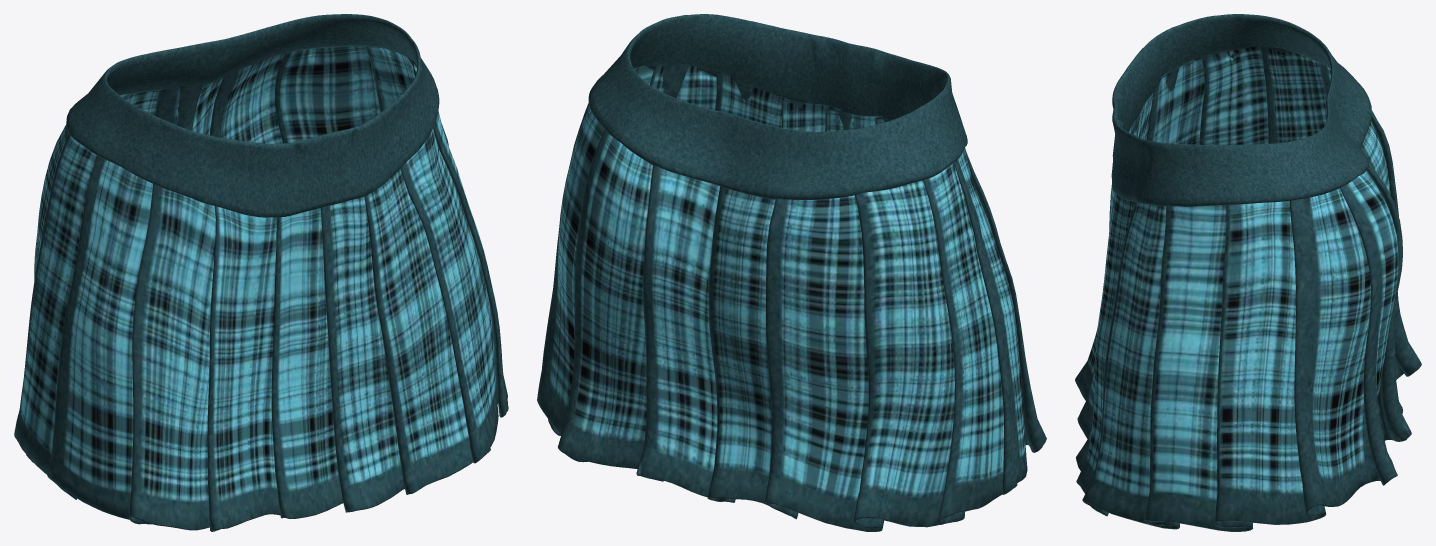
The model's file is elvs-pleated-plaid-mini-skirt.glb.
3 views of the same model, side by side, from view 1: azimuth 30°, elevation 25°; view 2: azimuth 150°, elevation 25°; view 3: azimuth 270°, elevation 25° (orthographic). The views are drawn at different scales.
Visible parts, largest first — view 1: Human.elvs_pleated_plaid_mini_skirt; view 2: Human.elvs_pleated_plaid_mini_skirt; view 3: Human.elvs_pleated_plaid_mini_skirt.
Boxes of the visible parts, left/top/right/bottom form: Human.elvs_pleated_plaid_mini_skirt: left=14, top=14, right=508, bottom=531; Human.elvs_pleated_plaid_mini_skirt: left=537, top=14, right=1046, bottom=531; Human.elvs_pleated_plaid_mini_skirt: left=1075, top=14, right=1421, bottom=531.
Bounding box in the file's own units: 0.4158 × 0.3599 × 0.2984.
Materials: 1 (1 with a texture image).
